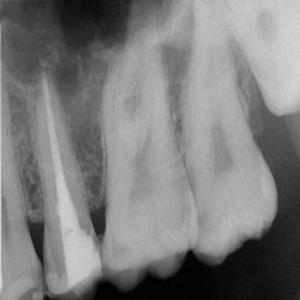tooth: (100, 50, 197, 298), (182, 31, 277, 271), (27, 68, 105, 300)
